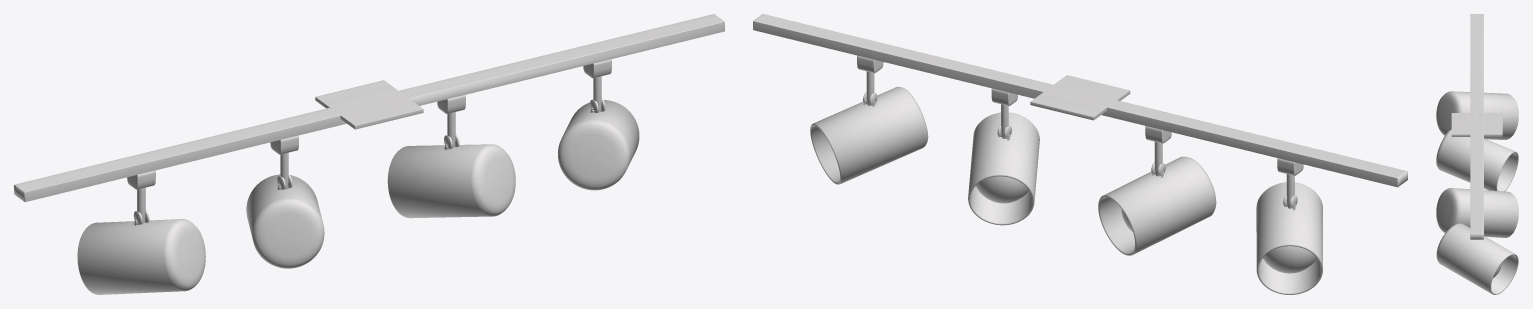
The model's file is lights.gltf.
The picture shows the model from 3 angles, left to right: view 1: azimuth 30°, elevation 25°; view 2: azimuth 150°, elevation 25°; view 3: azimuth 270°, elevation 25°; orthographic projection. The views are drawn at different scales.
Visible parts, largest first — view 1: Upper.Rail.001; view 2: Upper.Rail.001; view 3: Upper.Rail.001.
Boxes of the visible parts, x1,y1,x2,y2 form: Upper.Rail.001: [14, 14, 724, 294]; Upper.Rail.001: [753, 14, 1407, 294]; Upper.Rail.001: [1436, 14, 1518, 294].
Bounding box in the file's own units: 1.12 × 0.2179 × 0.1779.
1 material, 1 textured.
